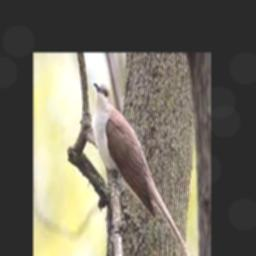Cuckoo: (94, 81, 195, 256)
